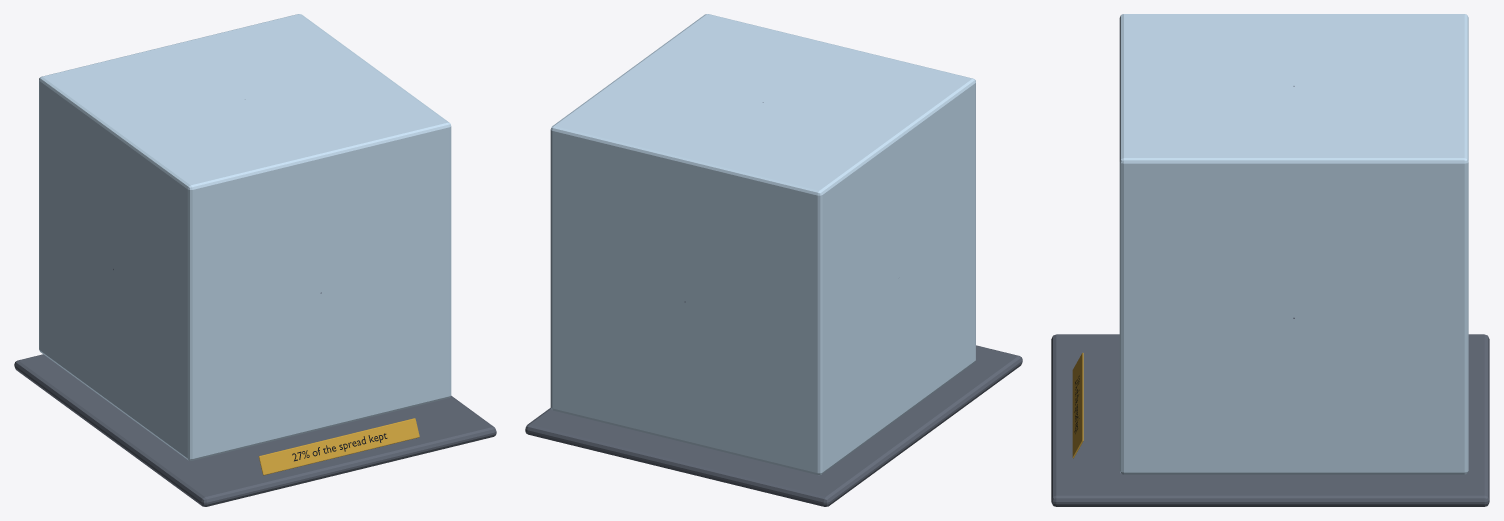
The model's file is semantic_space.glb.
3 renders of one model, left to right at view 1: azimuth 30°, elevation 25°; view 2: azimuth 150°, elevation 25°; view 3: azimuth 270°, elevation 25°, orthographic. The views are drawn at different scales.
Visible parts, largest first — view 1: glass, stand, kept_p; view 2: glass, stand; view 3: glass, stand, kept_p.
Boxes of the visible parts, x1,y1,x2,y2 form: glass: [39, 14, 451, 460]; stand: [14, 354, 496, 506]; kept_p: [258, 418, 419, 475]; glass: [550, 14, 975, 474]; stand: [525, 345, 1022, 506]; glass: [1119, 14, 1468, 474]; stand: [1051, 334, 1489, 506]; kept_p: [1072, 353, 1083, 458].
Bounding box in the file's own units: 0.94 × 0.9034 × 1.05.
